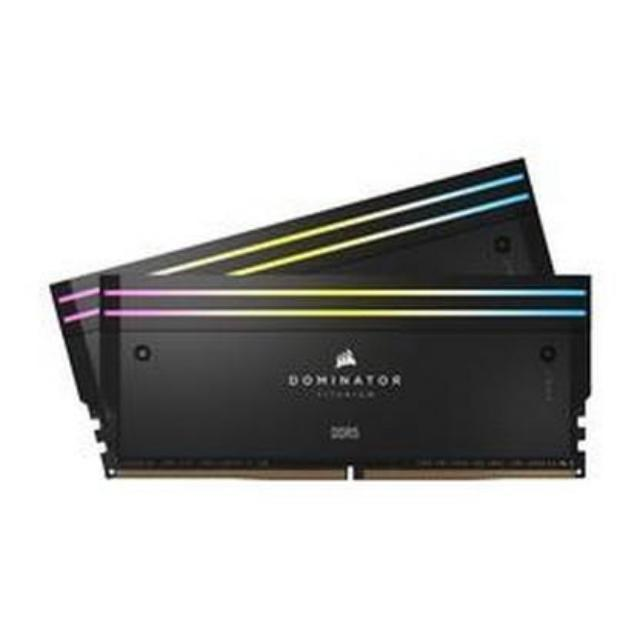RAM: (37, 142, 603, 510)
